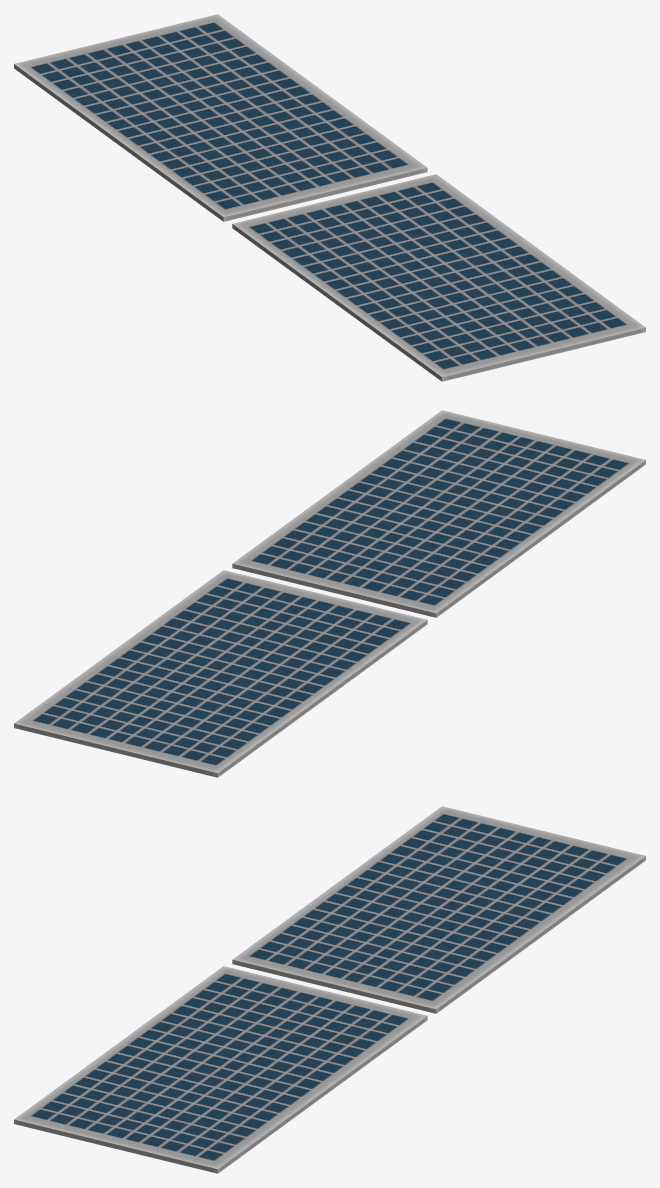
File: Eridani_Solar_1_Panel_1_1_R.obj
3 views of the same model, one above another, from view 1: azimuth 30°, elevation 25°; view 2: azimuth 150°, elevation 25°; view 3: azimuth 330°, elevation 25° (orthographic).
Parts seen in each view (by area): view 1: Eridani_Solar_1_Panel_1_1_R; view 2: Eridani_Solar_1_Panel_1_1_R; view 3: Eridani_Solar_1_Panel_1_1_R.
Boxes of the visible parts, x1,y1,x2,y2 form: Eridani_Solar_1_Panel_1_1_R: (14,14,645,381); Eridani_Solar_1_Panel_1_1_R: (14,410,645,777); Eridani_Solar_1_Panel_1_1_R: (14,806,645,1173).
Size of the model in its own units: 0.4702 by 0.01 by 1.71.
